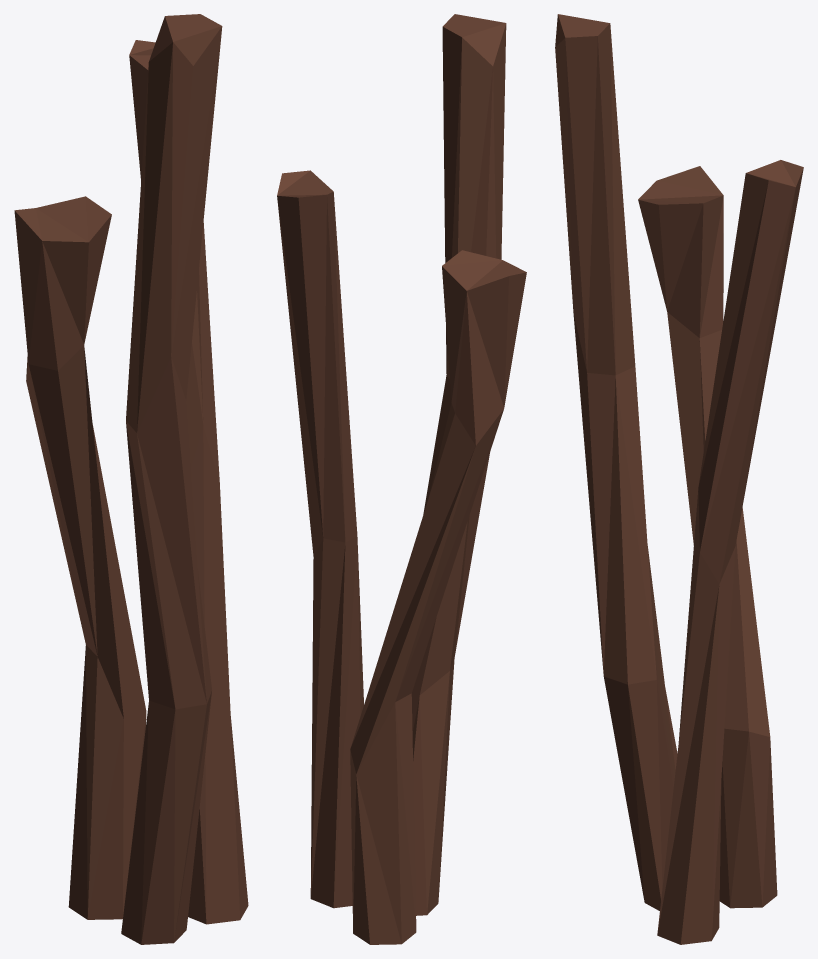
The model's file is Wooden Sticks_3.fbx.
The picture shows the model from 3 angles, left to right: view 1: azimuth 30°, elevation 25°; view 2: azimuth 150°, elevation 25°; view 3: azimuth 270°, elevation 25°; orthographic projection. The views are drawn at different scales.
Parts seen in each view (by area): view 1: Wooden Sticks_3.001; view 2: Wooden Sticks_3.001; view 3: Wooden Sticks_3.001.
Part boxes in pixels (x1,y1,x2,y2): Wooden Sticks_3.001: (14, 14, 248, 944); Wooden Sticks_3.001: (277, 14, 526, 944); Wooden Sticks_3.001: (555, 14, 803, 944).
Size of the model in its own units: 0.4347 by 1.76 by 0.458.
